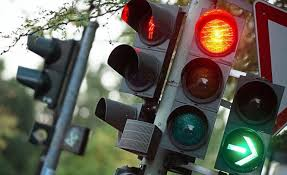red: (185, 6, 234, 142), (178, 13, 224, 147)
